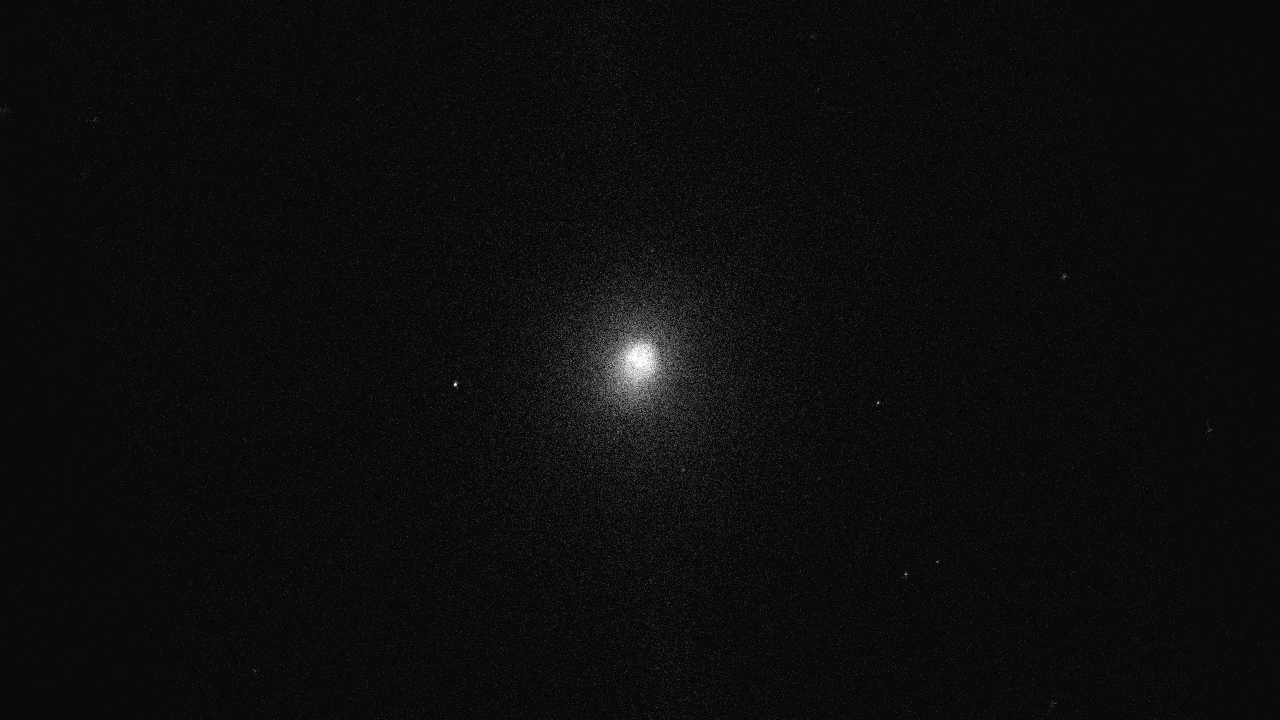Cavity: (627, 361, 638, 372), (641, 343, 652, 353)
Galaxy: (589, 319, 685, 407)
